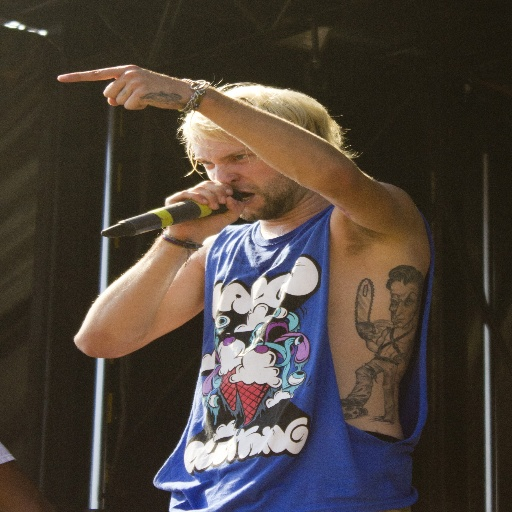hand: (59, 54, 189, 114), (163, 178, 247, 240)
